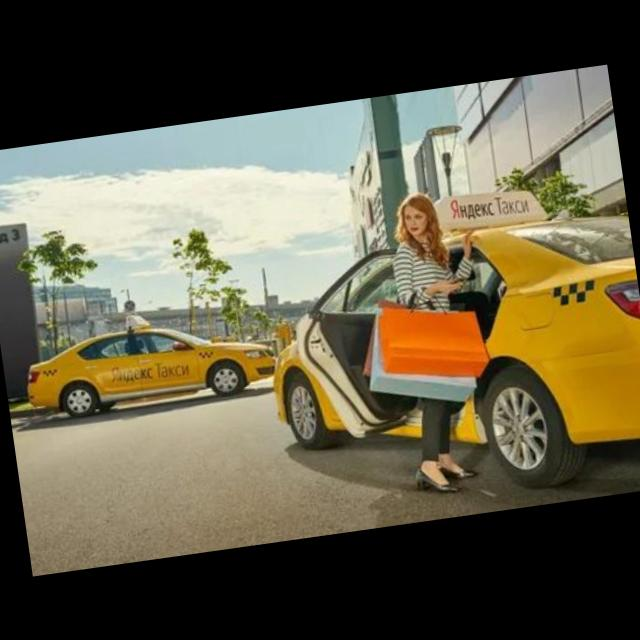taxi: (251, 172, 640, 521), (20, 298, 281, 424)
